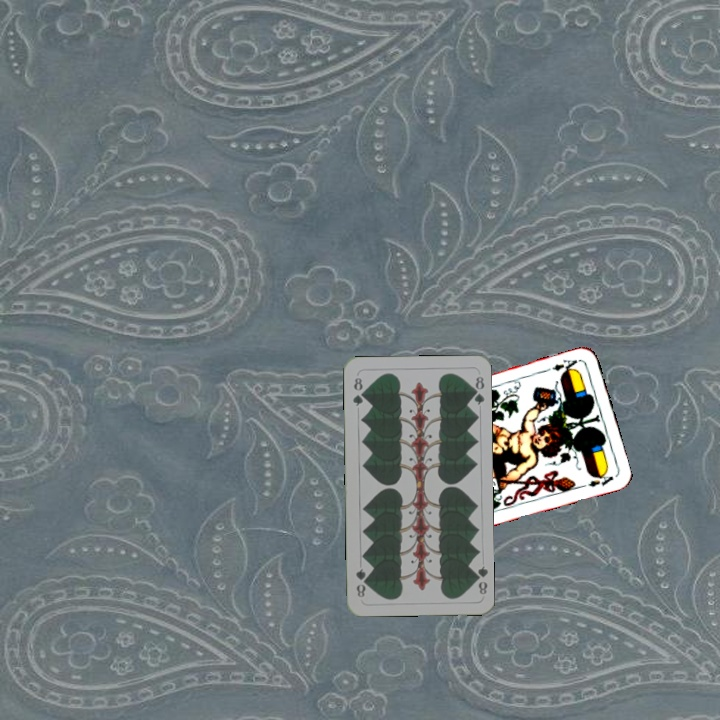EA: (548, 355, 583, 376)
G8: (470, 562, 490, 597), (349, 373, 366, 409)
